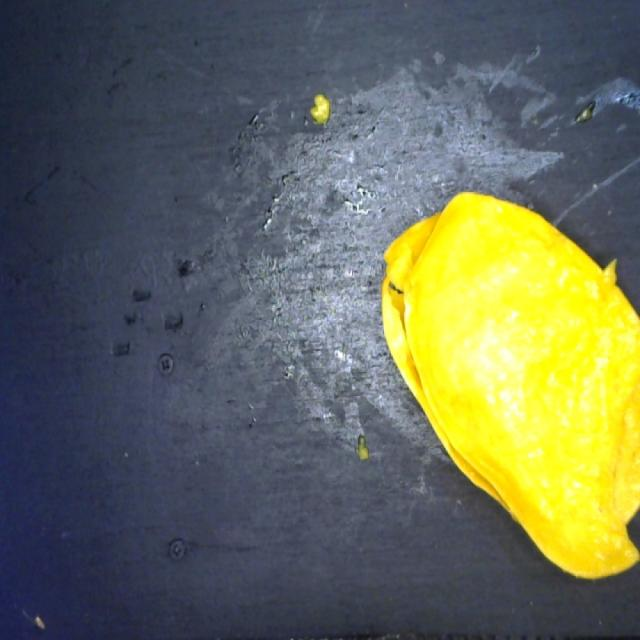biodegradable: (372, 182, 640, 586)
